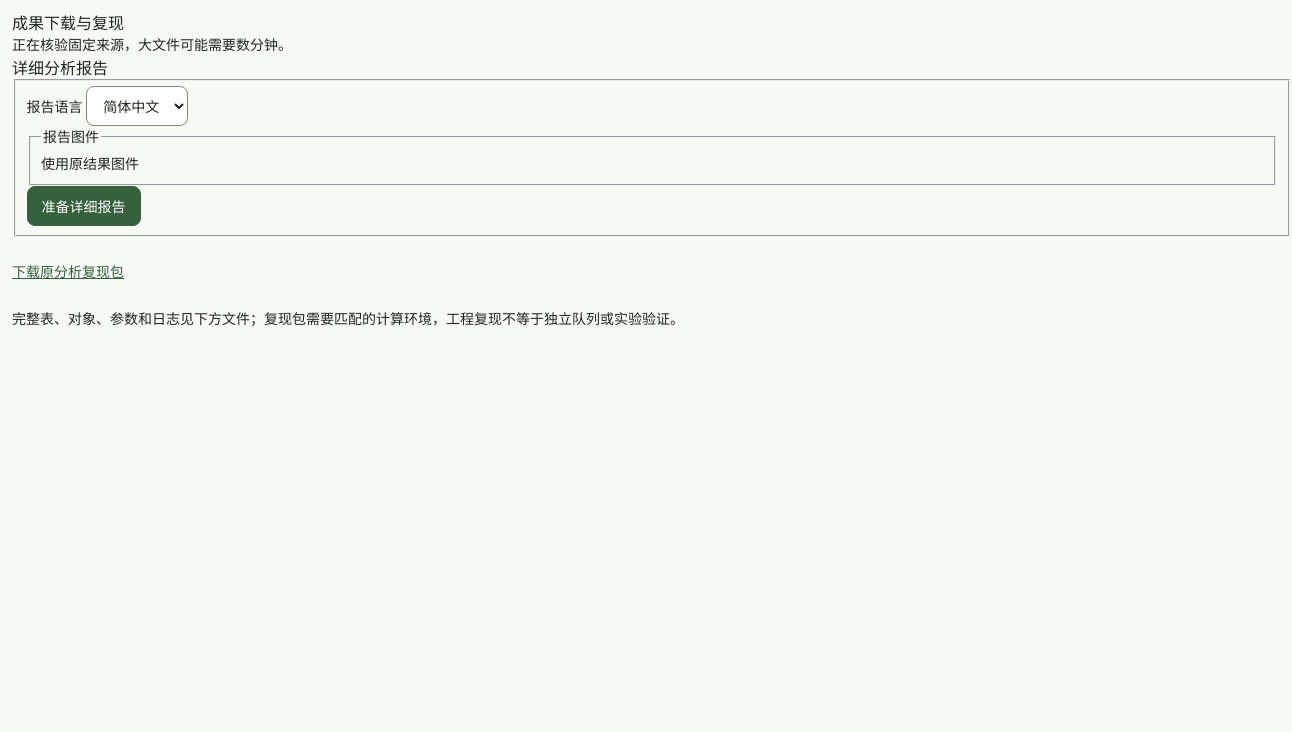
Scenario: preserves the current enrichment in the server-normalized Bulk shortcut
Click the button "准备详细报告" at point(84, 206), box [26,186,140,226]
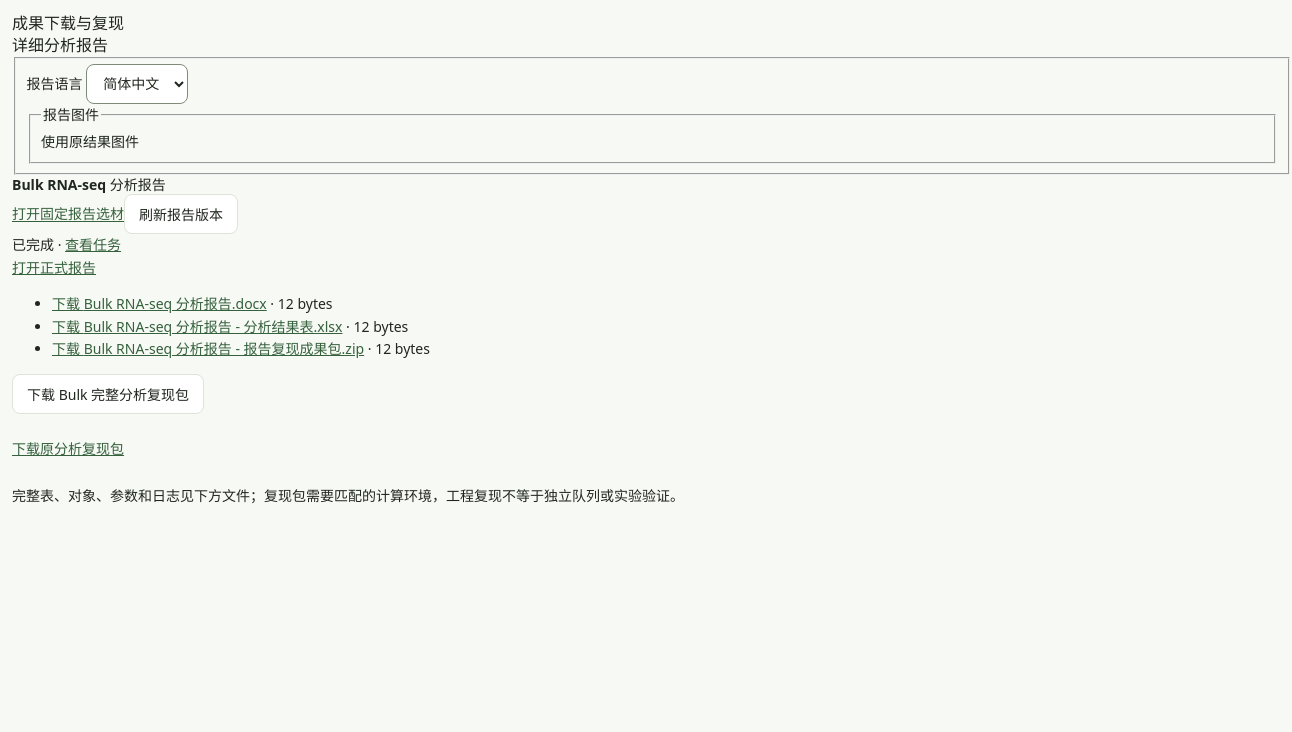
Result: the button "下载 Bulk 完整分析复现包" is shown at [12,374,204,414]
Result: the link "下载 Bulk RNA-seq 分析报告.docx" is shown at [52,294,267,313]
